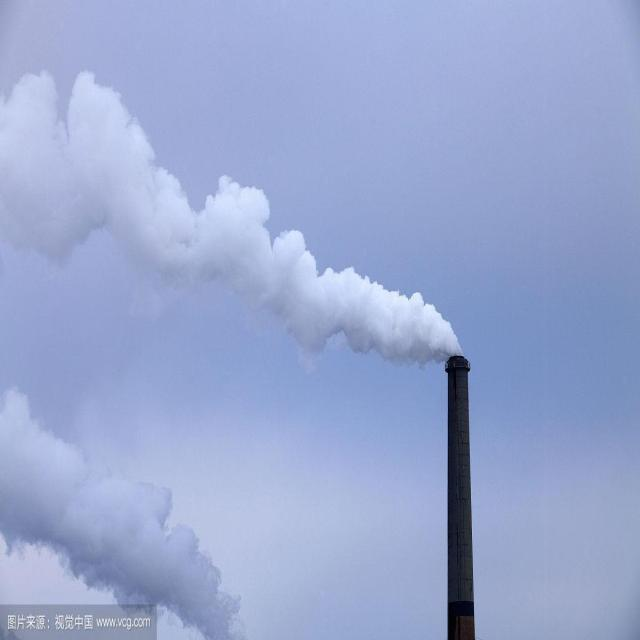Smoke: (0, 68, 465, 374), (0, 382, 249, 640)
